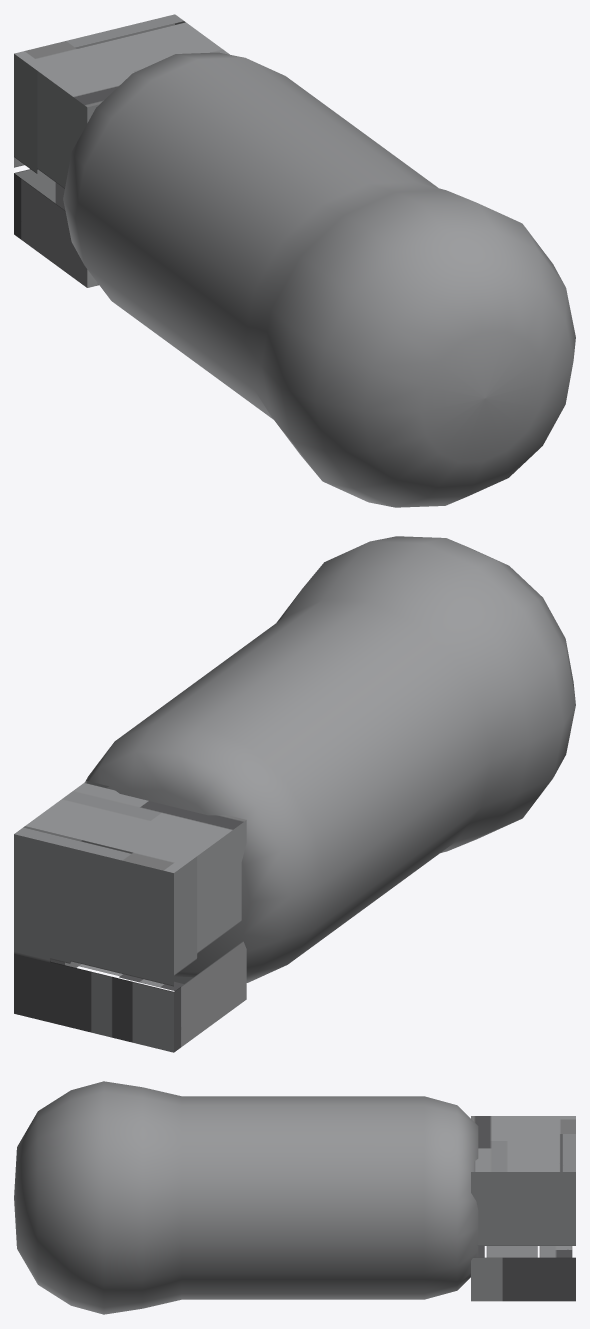
3 renders of one model, top to bottom at view 1: azimuth 30°, elevation 25°; view 2: azimuth 150°, elevation 25°; view 3: azimuth 270°, elevation 25°, orthographic. The views are drawn at different scales.
Size of the model in its own units: 0.8424 by 0.8424 by 2.03.
